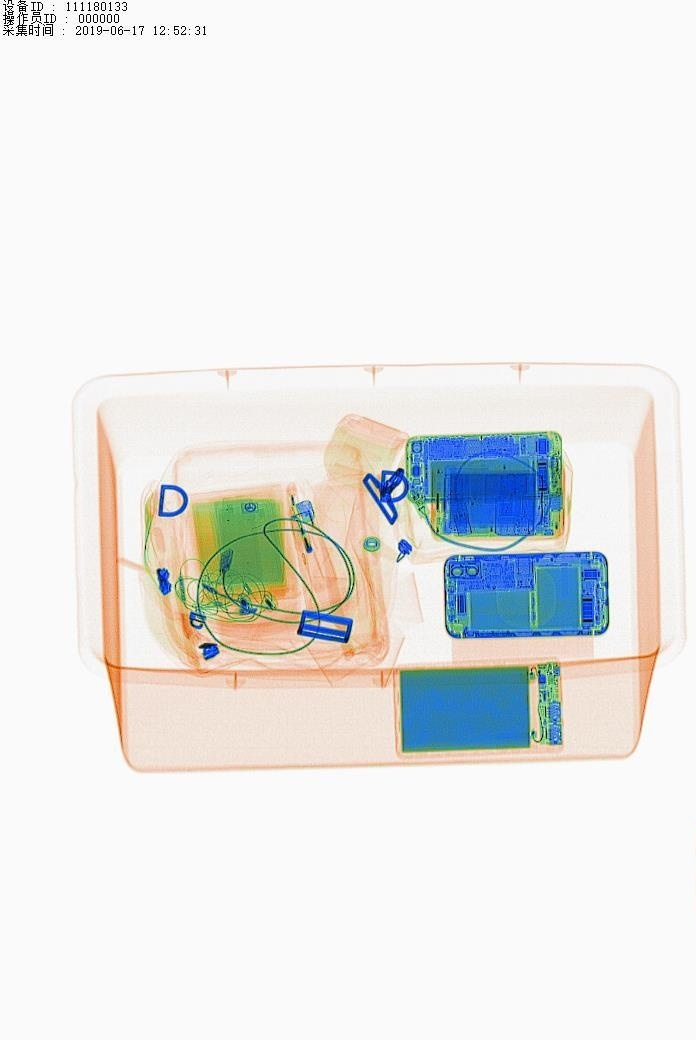NonmetallicFire: (290, 503, 340, 598)
